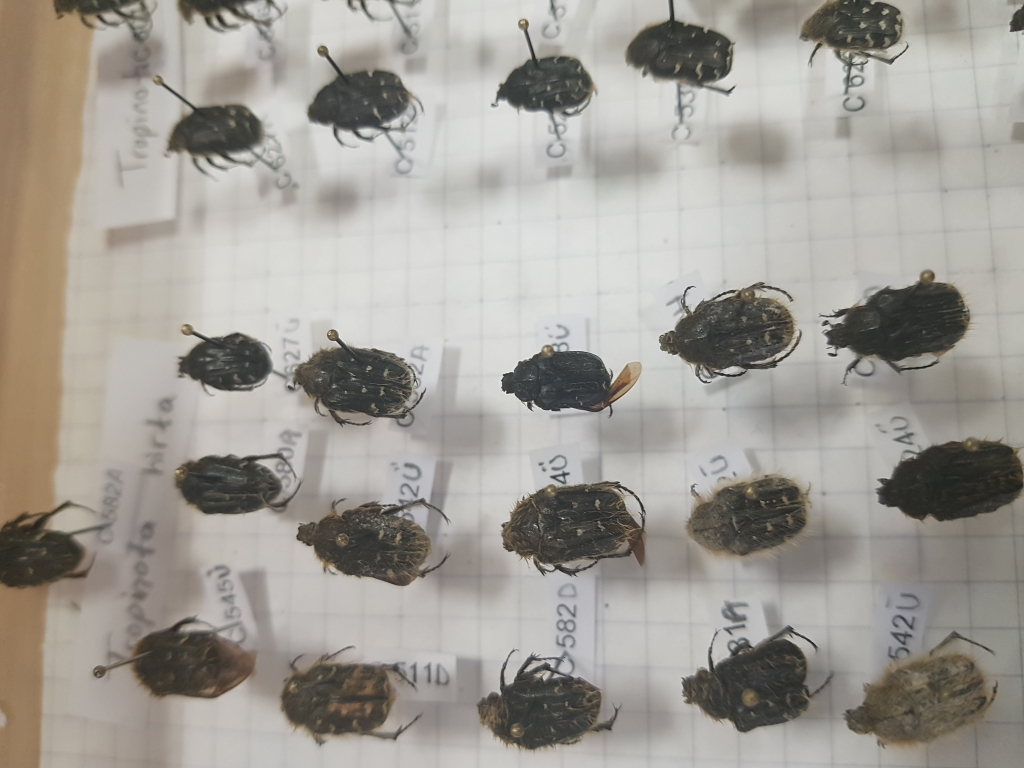Tropinota_hirta: (485, 459, 663, 577)
